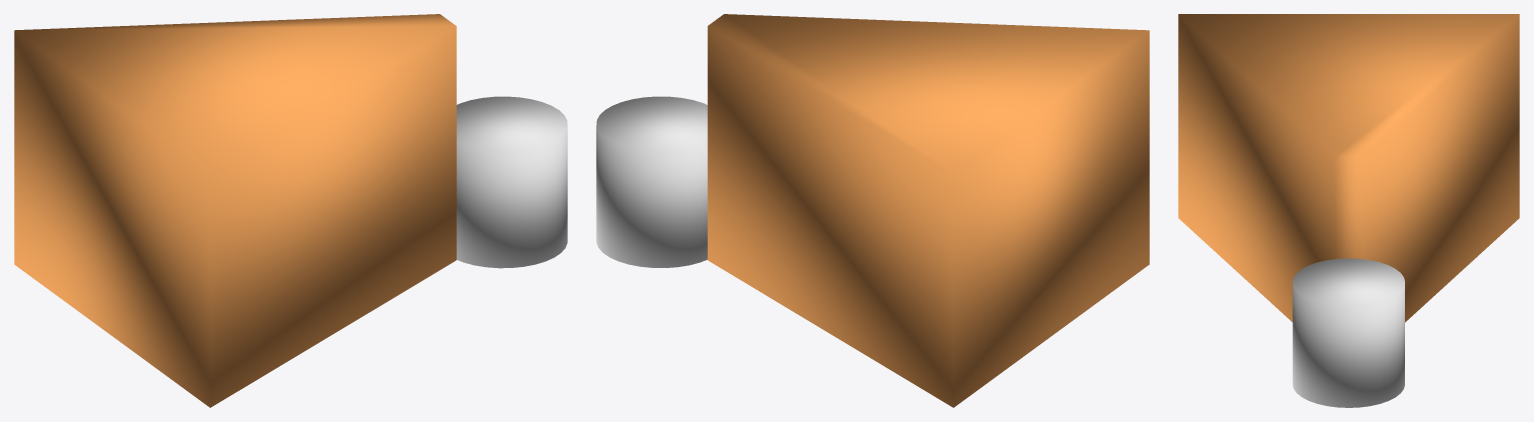
File: NOT.glb
3 renders of one model, left to right at view 1: azimuth 30°, elevation 25°; view 2: azimuth 150°, elevation 25°; view 3: azimuth 270°, elevation 25°, orthographic. The views are drawn at different scales.
Parts seen in each view (by area): view 1: 1, Cot1; view 2: 1, Cot1; view 3: 1, Cot1.
Boxes of the visible parts, x1=… form: 1: x1=14, y1=14, x2=456, y2=407; Cot1: x1=456, y1=96, x2=567, y2=268; 1: x1=707, y1=14, x2=1149, y2=407; Cot1: x1=596, y1=96, x2=707, y2=267; 1: x1=1178, y1=14, x2=1519, y2=322; Cot1: x1=1292, y1=258, x2=1404, y2=407.
Size of the model in its own units: 3.99 by 2 by 3.03.
